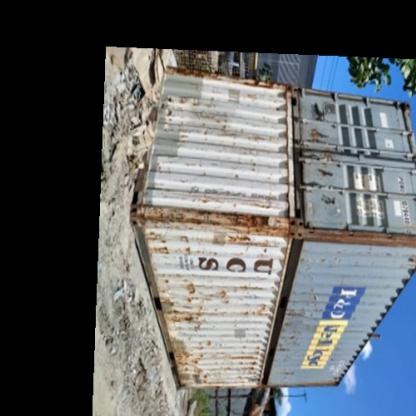Damage: (140, 204, 286, 246), (174, 337, 212, 387), (184, 184, 278, 202), (232, 341, 266, 386), (282, 291, 322, 322), (168, 107, 230, 127), (215, 128, 269, 144), (162, 306, 205, 324), (274, 332, 306, 356), (165, 94, 217, 106), (240, 301, 272, 320), (152, 245, 196, 258), (199, 286, 230, 304), (186, 158, 208, 177), (320, 251, 340, 269), (182, 278, 196, 298), (236, 283, 266, 292), (249, 158, 259, 176), (282, 368, 296, 380), (160, 274, 172, 284), (210, 248, 220, 258), (298, 256, 310, 264), (233, 170, 241, 180)
